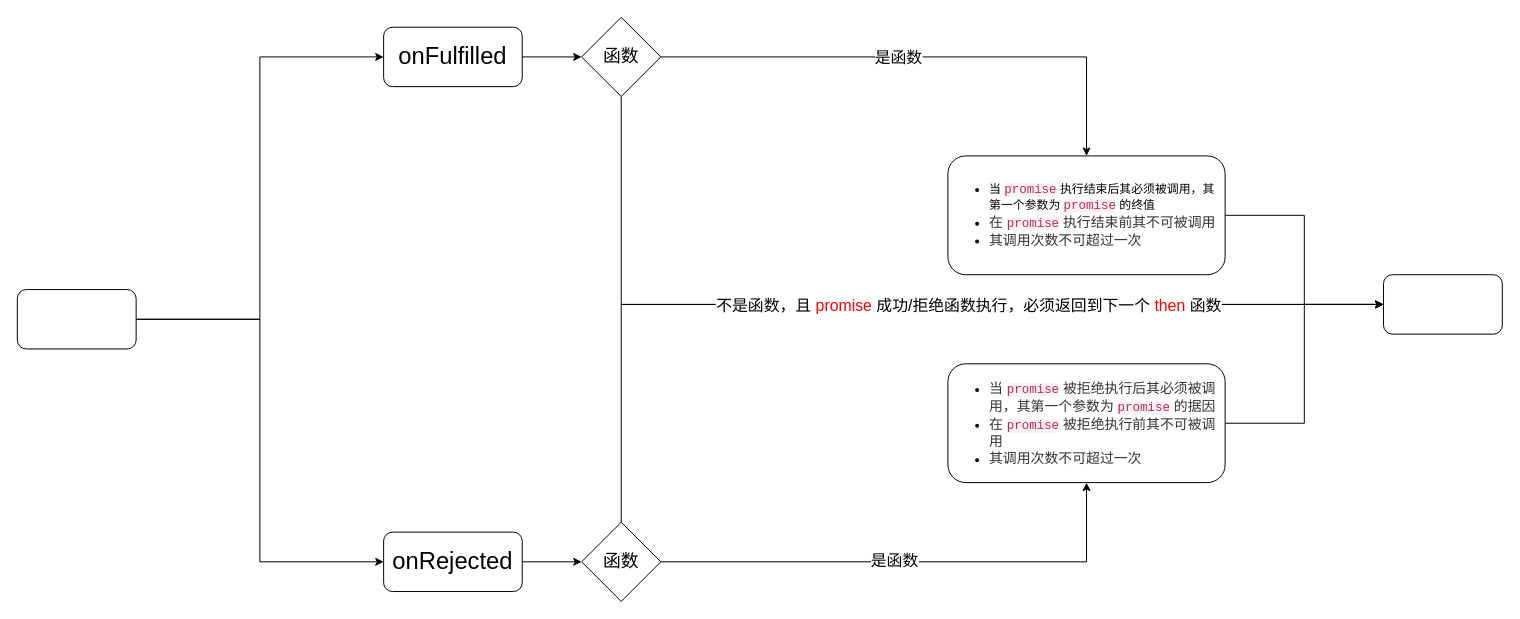
Some shapes in this 1520 by 619 pixel diagram are drawn without their labels. Each missing label, with the centre of its shape:
"Then 1" belongs at (76,319).
"Then 2" belongs at (1442,304).
